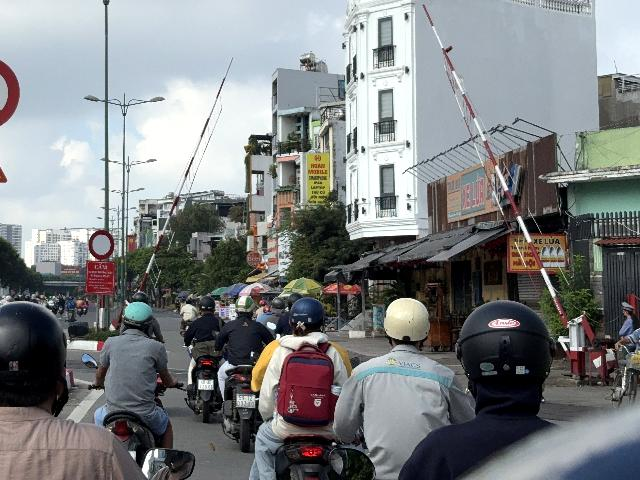duong-cam: (87, 229, 116, 260)
